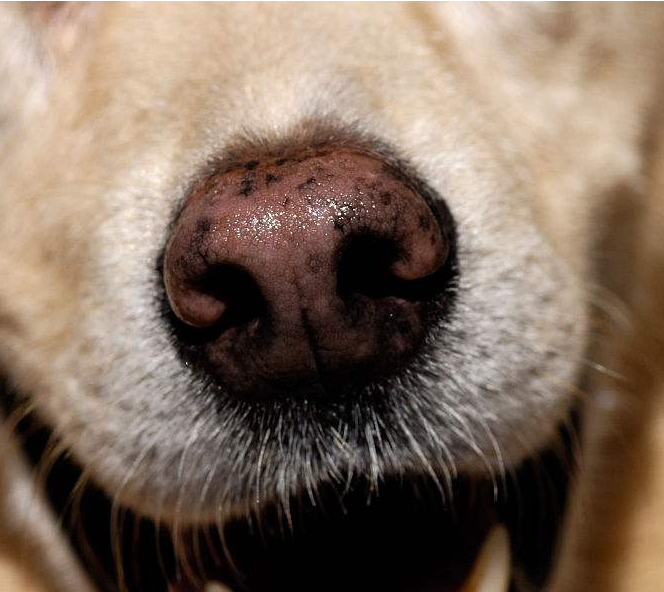nose: (153, 136, 471, 418)
